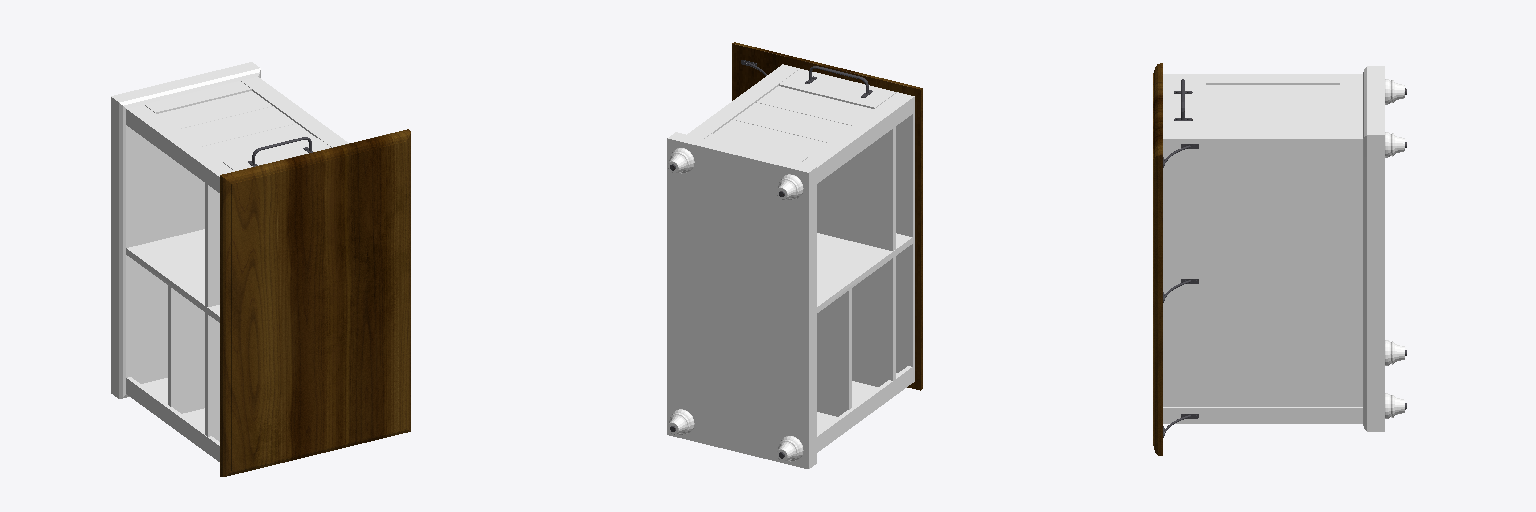
3 renders of one model, left to right at view 1: azimuth 30°, elevation 25°; view 2: azimuth 150°, elevation 25°; view 3: azimuth 270°, elevation 25°, orthographic.
Parts seen in each view (by area): view 1: gilchrist_island_body; view 2: gilchrist_island_body; view 3: gilchrist_island_body.
Part boxes in pixels (bbox=[...]): gilchrist_island_body: bbox=[111, 62, 410, 476]; gilchrist_island_body: bbox=[667, 42, 922, 468]; gilchrist_island_body: bbox=[1153, 63, 1406, 455].
Bounding box in the file's own units: 0.8001 × 1.25 × 0.9323.
1 materials, 1 textured.